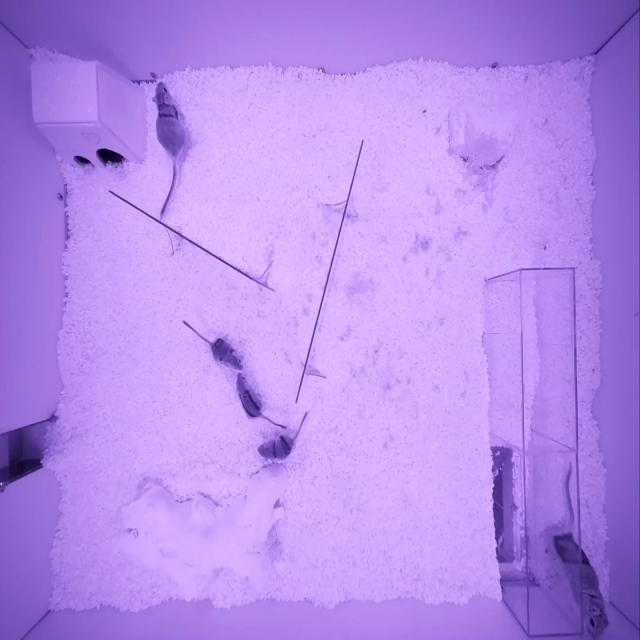adult_back: (553, 533, 607, 640)
adult_front: (152, 81, 188, 158)
pup_h_stripe: (257, 435, 294, 460)
pup_spotted: (211, 338, 244, 371)
pup_v_stripe: (235, 374, 263, 418)
